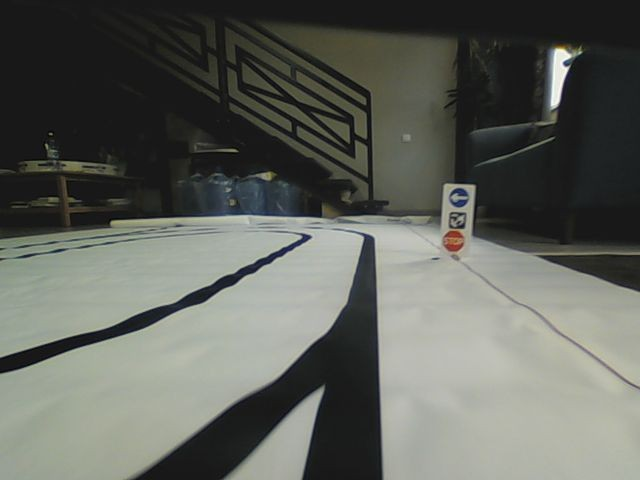Stop: (443, 229, 465, 252)
